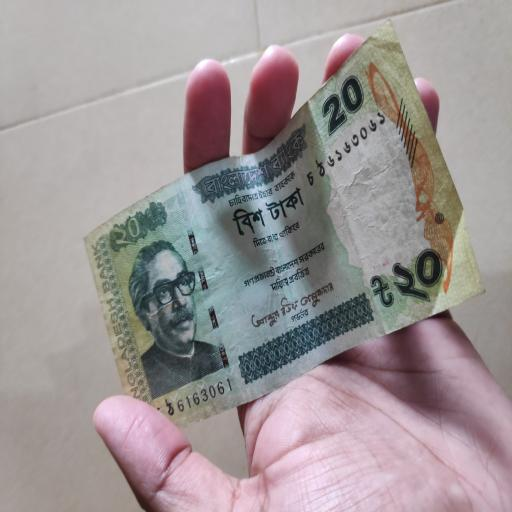20taka: (86, 21, 489, 418)
